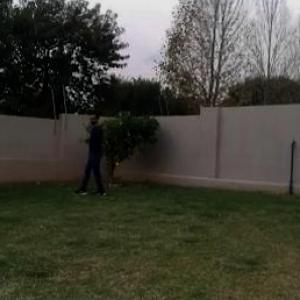follow: (84, 107, 107, 201)
